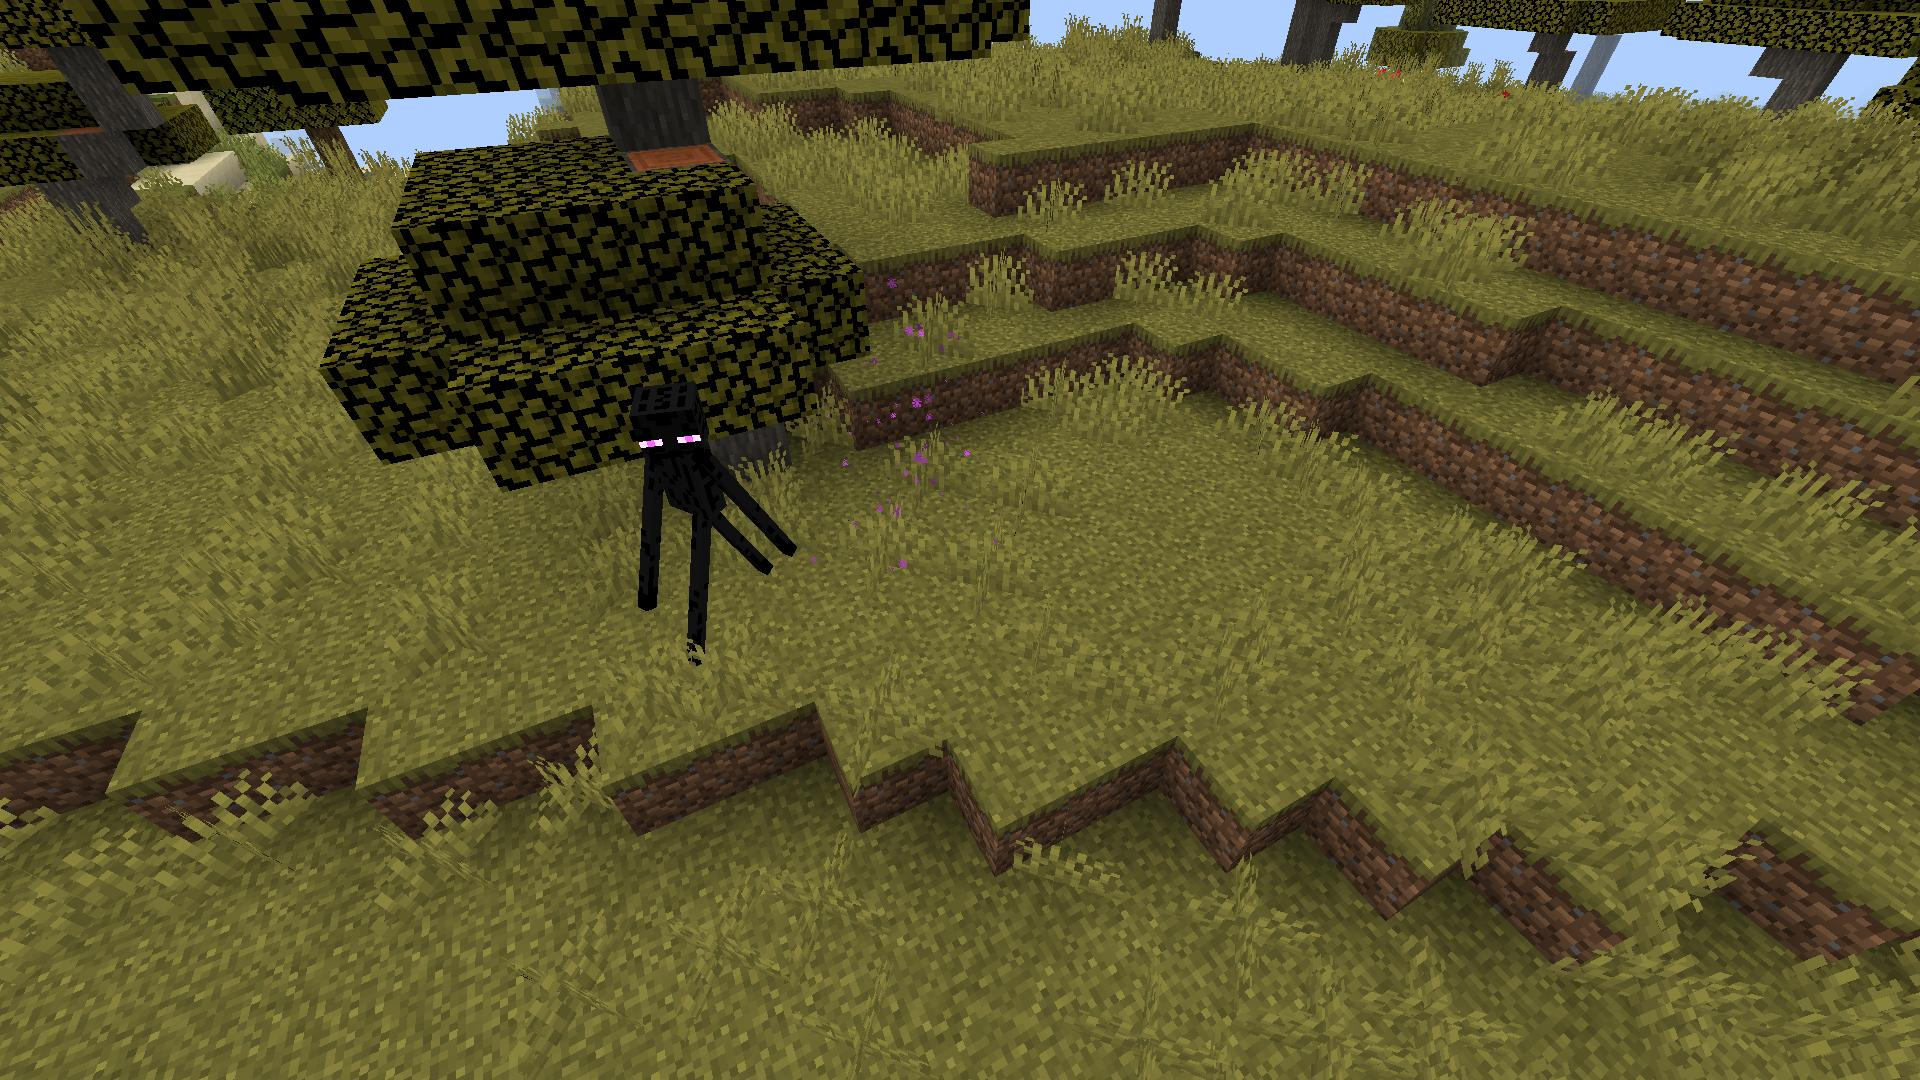enderman: (630, 386, 807, 665)
